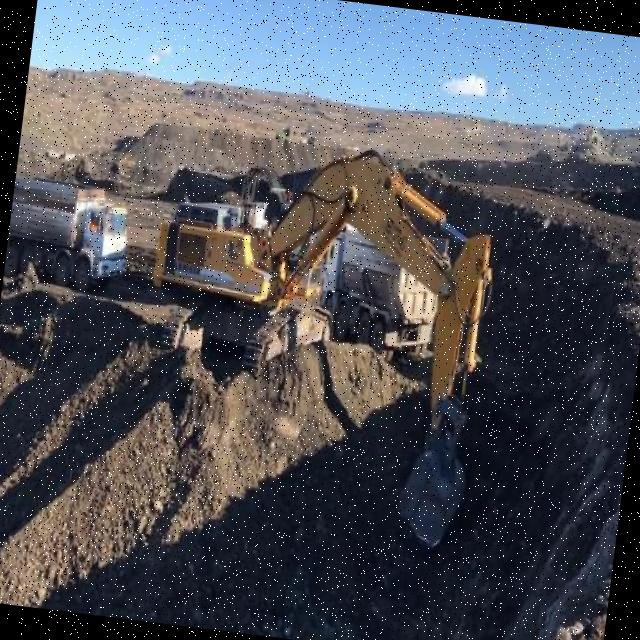Dump Truck: (316, 220, 448, 368), (2, 171, 128, 298)
Excavator: (124, 126, 502, 549)
